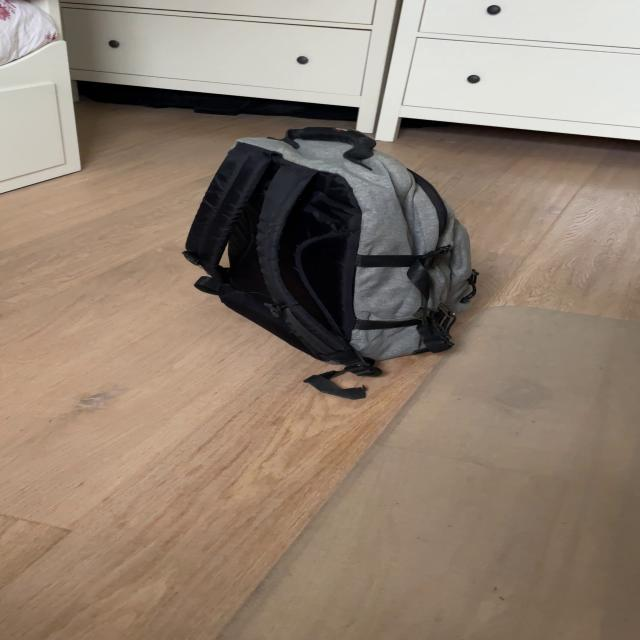backpack: (169, 111, 488, 378)
